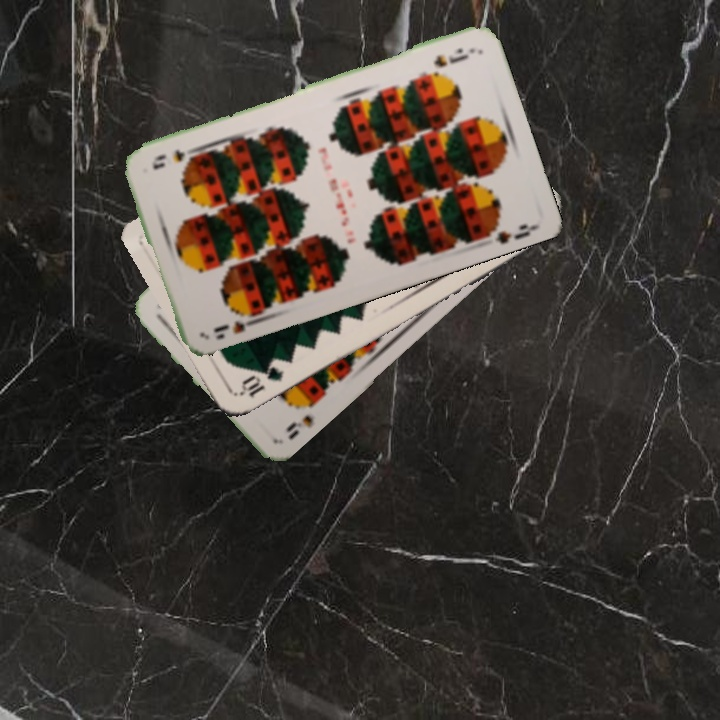G10: (236, 362, 287, 400)
S9: (282, 395, 322, 443), (209, 304, 263, 337), (429, 43, 466, 70)
